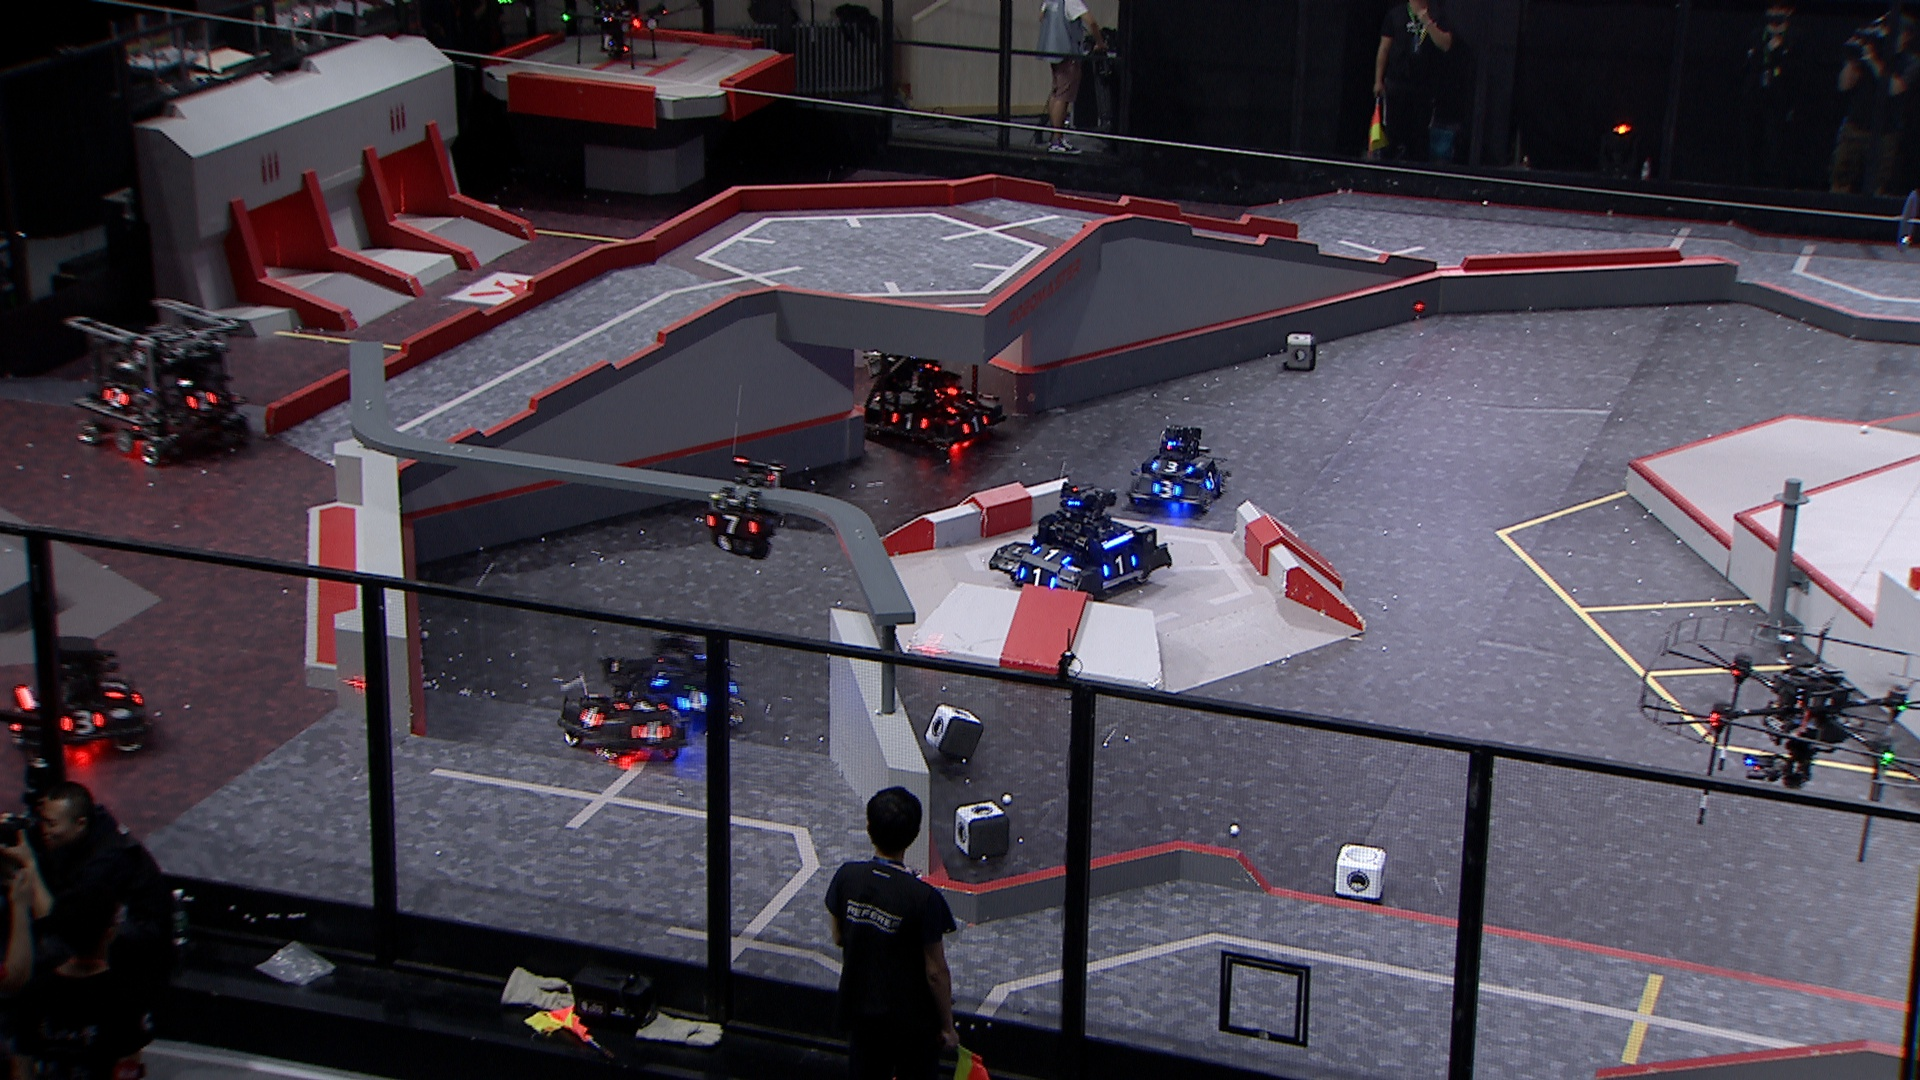armor: (58, 709, 109, 737), (704, 513, 760, 538), (1015, 566, 1059, 593), (884, 410, 931, 433), (632, 721, 671, 745), (612, 698, 669, 713), (98, 386, 133, 411), (98, 675, 131, 702), (675, 690, 711, 713), (185, 390, 219, 414), (1102, 555, 1135, 579), (957, 413, 989, 436), (1031, 547, 1073, 564), (578, 705, 604, 731), (1153, 480, 1182, 502), (1153, 460, 1195, 473), (942, 398, 978, 411), (1205, 469, 1218, 491)
car: (65, 291, 262, 462), (852, 309, 1007, 463), (986, 479, 1174, 600), (3, 636, 156, 756), (555, 651, 692, 771), (628, 629, 746, 733), (1127, 425, 1230, 518)
watcher: (694, 455, 789, 560)
